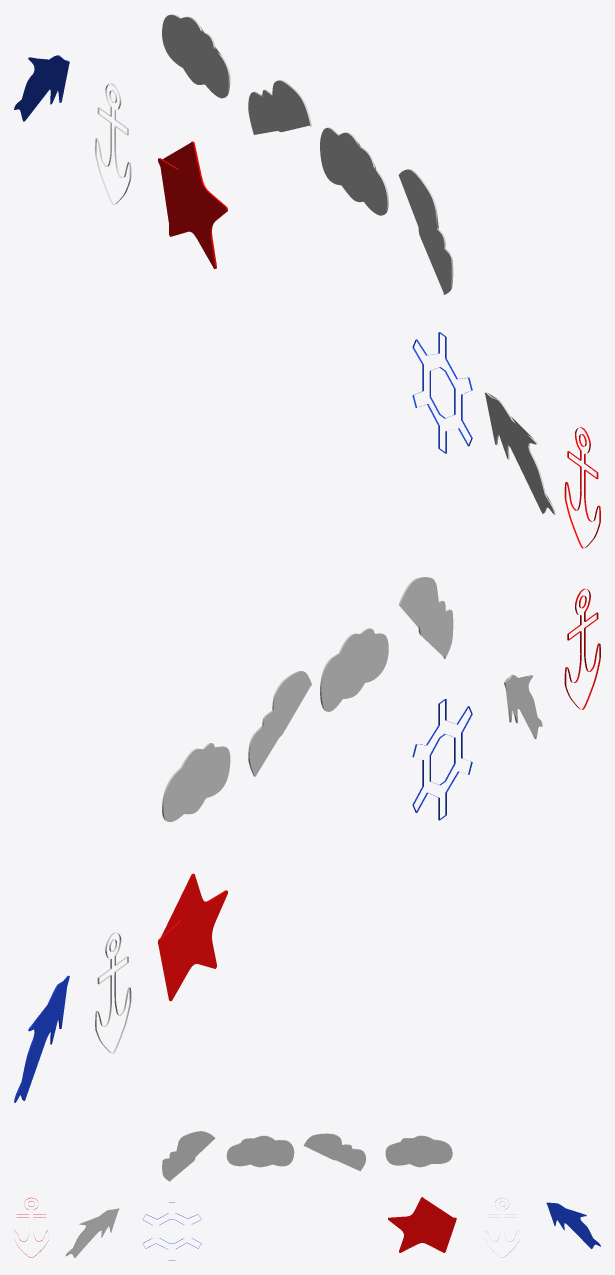
File: TNK-12.dae
3 views of the same model, one above another, from view 1: azimuth 30°, elevation 25°; view 2: azimuth 150°, elevation 25°; view 3: azimuth 270°, elevation 25° (orthographic). The views are drawn at different scales.
Visible parts, largest first — view 1: oblako (×2), chaika (×2), zvezda, delfin, Extrude.6, iakorb (×2), wturval; view 2: oblako (×2), chaika (×2), zvezda, Extrude.6, iakorb (×2), delfin, wturval; view 3: oblako (×2), chaika (×2), zvezda, Extrude.6, delfin, wturval.
Part boxes in pixels (box(x1,y1,x2,y2)): oblako (×2): box(162, 14, 388, 215); chaika (×2): box(248, 80, 453, 294); zvezda: box(158, 141, 227, 268); delfin: box(484, 392, 555, 514); Extrude.6: box(14, 55, 69, 121); iakorb (×2): box(95, 83, 600, 548); wturval: box(412, 332, 472, 453); oblako (×2): box(162, 628, 388, 821); chaika (×2): box(248, 577, 453, 776); zvezda: box(158, 873, 227, 1001); Extrude.6: box(14, 975, 69, 1102); iakorb (×2): box(95, 588, 600, 1053); delfin: box(504, 674, 542, 738); wturval: box(412, 699, 472, 820); oblako (×2): box(226, 1135, 452, 1167); chaika (×2): box(162, 1131, 365, 1181); zvezda: box(388, 1197, 456, 1252); Extrude.6: box(546, 1202, 600, 1248); delfin: box(66, 1208, 119, 1257); wturval: box(142, 1202, 201, 1260).
Size of the model in its own units: 11.67 by 161 by 662.
